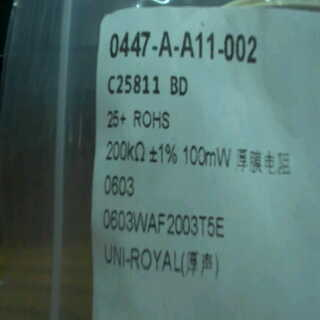200kR: (105, 137, 147, 165)
